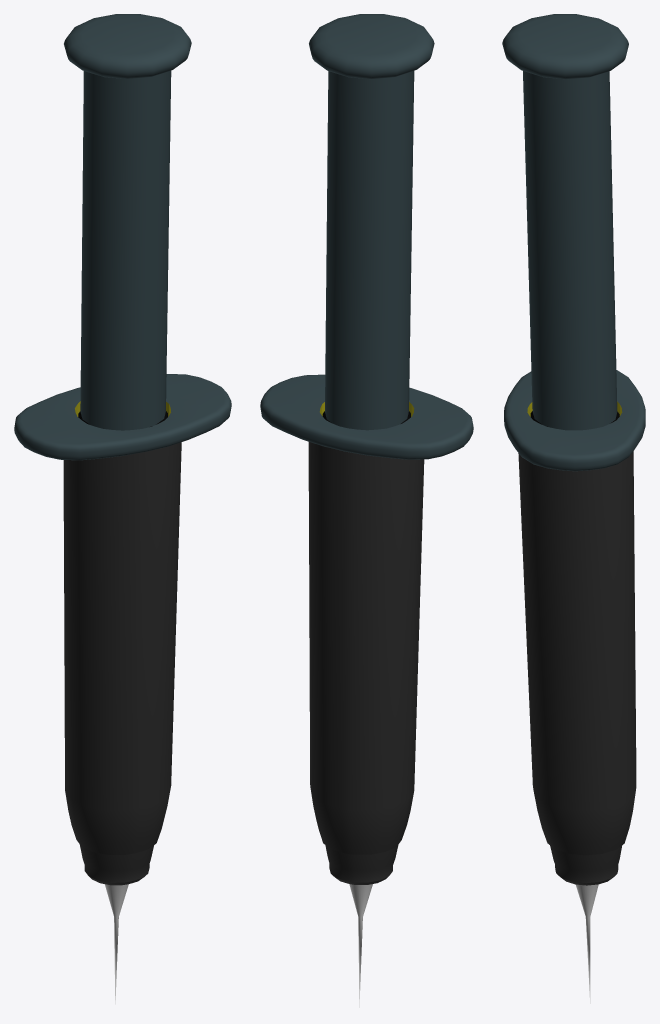
File: JeringuillaEntera.fbx
3 renders of one model, left to right at view 1: azimuth 30°, elevation 25°; view 2: azimuth 150°, elevation 25°; view 3: azimuth 270°, elevation 25°, orthographic.
Visible parts, largest first — view 1: ExteriorJeringuilla001, EmboloJeringuilla001; view 2: ExteriorJeringuilla001, EmboloJeringuilla001; view 3: ExteriorJeringuilla001, EmboloJeringuilla001.
Boxes of the visible parts, bbox=[...] form: ExteriorJeringuilla001: bbox=[14, 374, 231, 1004]; EmboloJeringuilla001: bbox=[64, 14, 191, 430]; ExteriorJeringuilla001: bbox=[260, 374, 473, 1007]; EmboloJeringuilla001: bbox=[309, 14, 434, 430]; ExteriorJeringuilla001: bbox=[504, 370, 645, 1003]; EmboloJeringuilla001: bbox=[502, 14, 628, 430].
Bounding box in the file's own units: 0.4473 × 2.11 × 0.2815.
